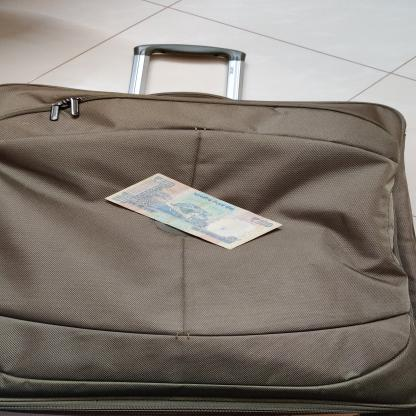Old100Back: (104, 173, 284, 250)
